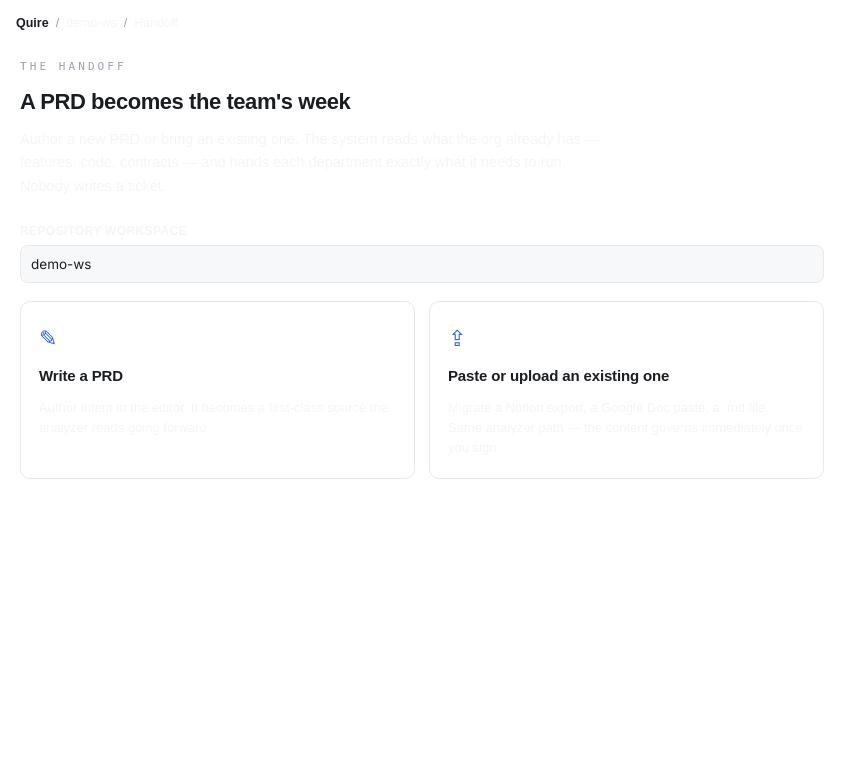
Handoff surface — editor door › enables the run button when content is typed
Click the text "Write a PRD" at (81, 376), box [39,365,123,388]
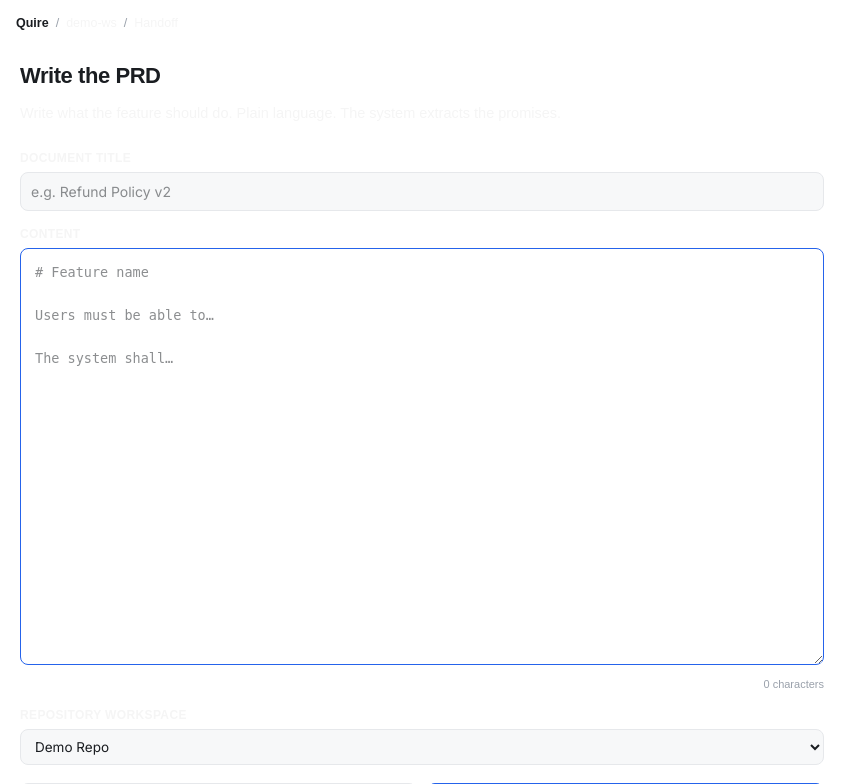
Type "Users must be able to reset their password." into the text box with class "hf-editor" at (422, 456), box [20,248,824,665]
(page scrolled)
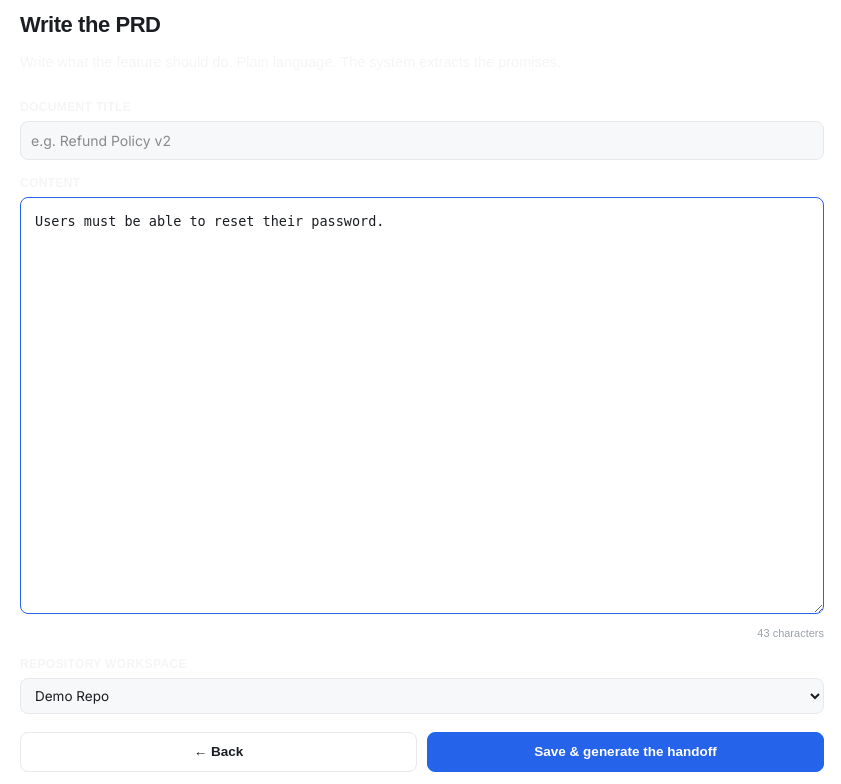
Now the button "Save & generate the handoff" is enabled, box [427,732,824,772]
